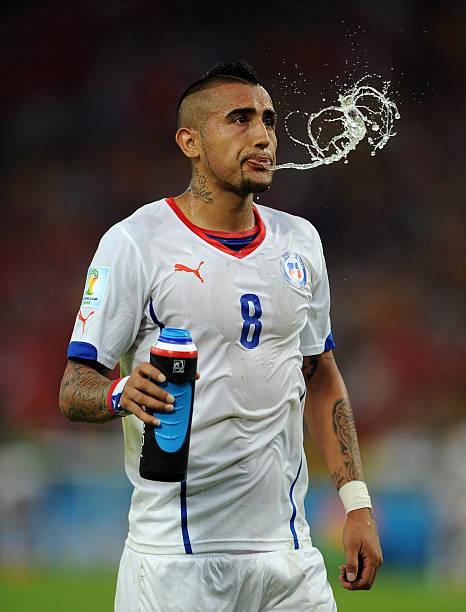Spitting: (153, 29, 342, 224)
